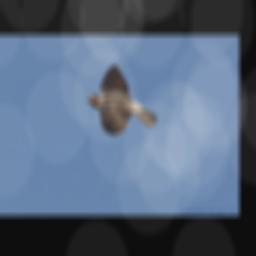Swallow: (82, 64, 159, 136)
